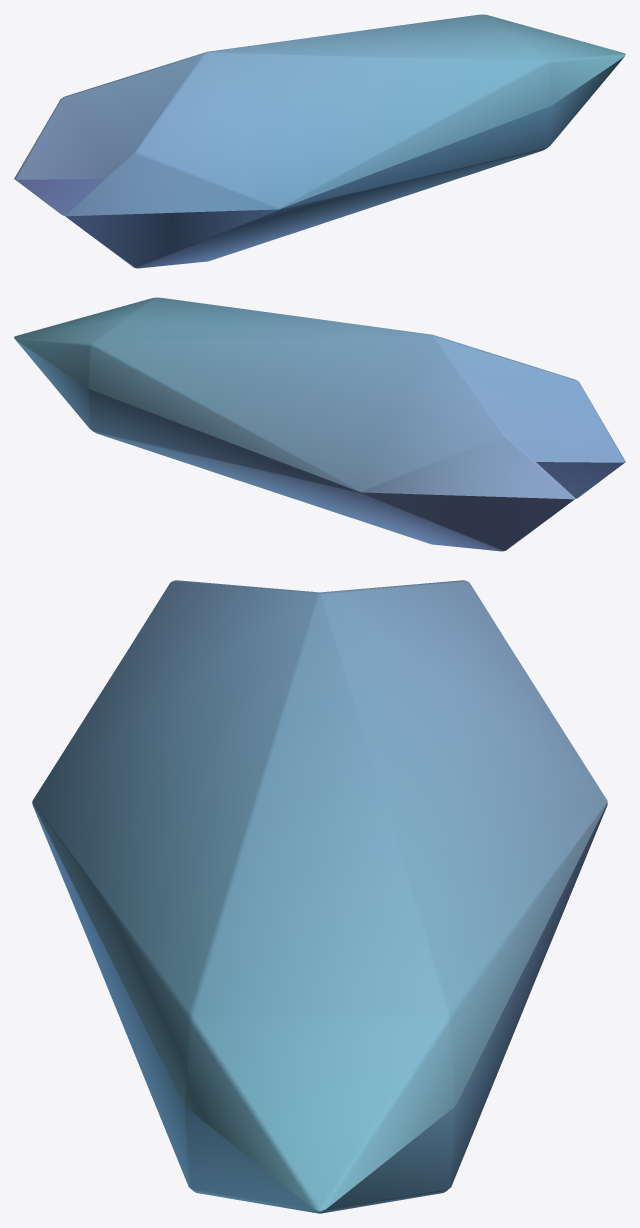
The picture shows the model from 3 angles, top to bottom: view 1: azimuth 30°, elevation 25°; view 2: azimuth 150°, elevation 25°; view 3: azimuth 270°, elevation 25°; orthographic projection. The views are drawn at different scales.
Visible parts, largest first — view 1: SM_Crossbow_Mithril_1H_01_LOD0; view 2: SM_Crossbow_Mithril_1H_01_LOD0; view 3: SM_Crossbow_Mithril_1H_01_LOD0.
Boxes of the visible parts, left/top/right/bottom form: SM_Crossbow_Mithril_1H_01_LOD0: left=14, top=14, right=625, bottom=268; SM_Crossbow_Mithril_1H_01_LOD0: left=14, top=297, right=625, bottom=551; SM_Crossbow_Mithril_1H_01_LOD0: left=32, top=580, right=607, bottom=1213.
Bounding box in the file's own units: 0.0713 × 0.0243 × 0.0303.
